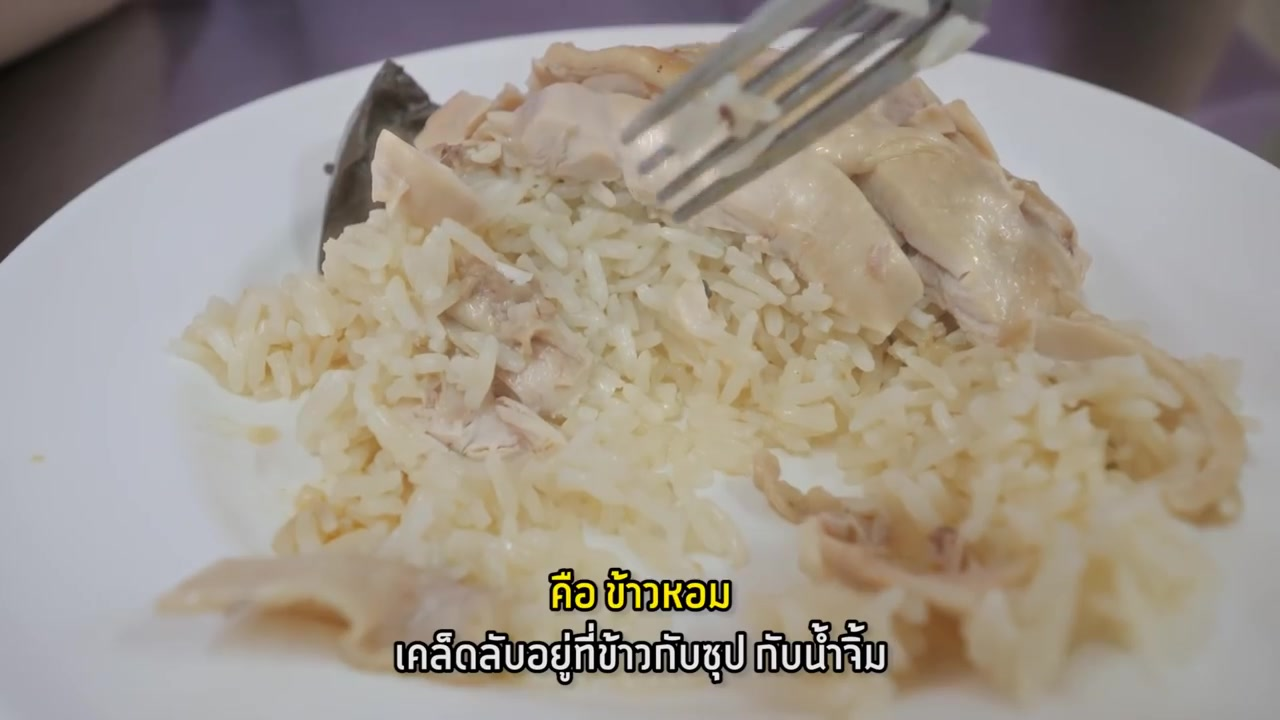text-label: (385, 611, 891, 686), (545, 563, 736, 617)
